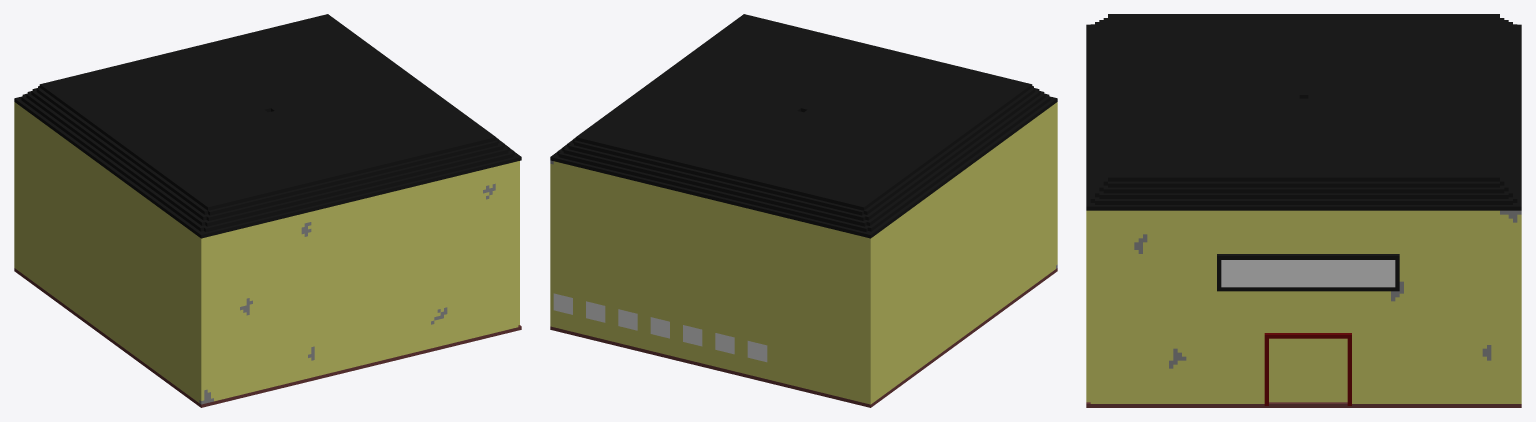
Rendered from --2-Barber Shop.obj.
3 renders of one model, left to right at view 1: azimuth 30°, elevation 25°; view 2: azimuth 150°, elevation 25°; view 3: azimuth 270°, elevation 25°, orthographic. The views are drawn at different scales.
Visible parts, largest first — view 1: Barber Shop; view 2: Barber Shop; view 3: Barber Shop.
Boxes of the visible parts, x1,y1,x2,y2 form: Barber Shop: (14,14,521,407); Barber Shop: (550,14,1057,407); Barber Shop: (1086,14,1521,407).
Size of the model in its own units: 10 by 5.6 by 10.
